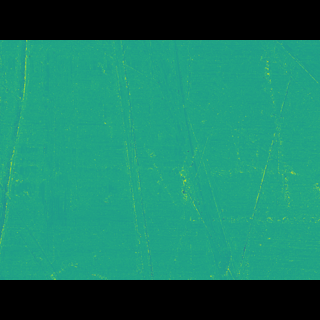Loch: (142, 70, 251, 250), (0, 68, 80, 222), (104, 69, 161, 250)
